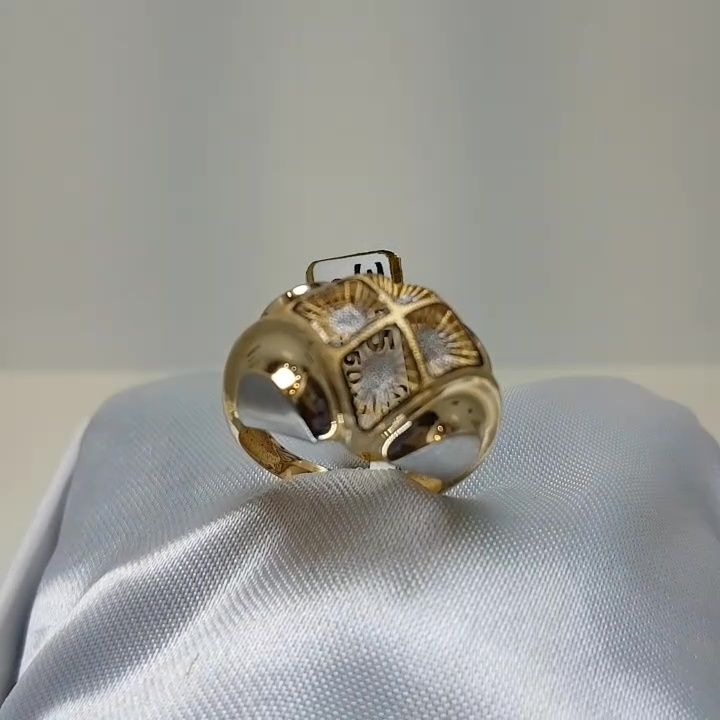Ring 2: (221, 238, 523, 514)
